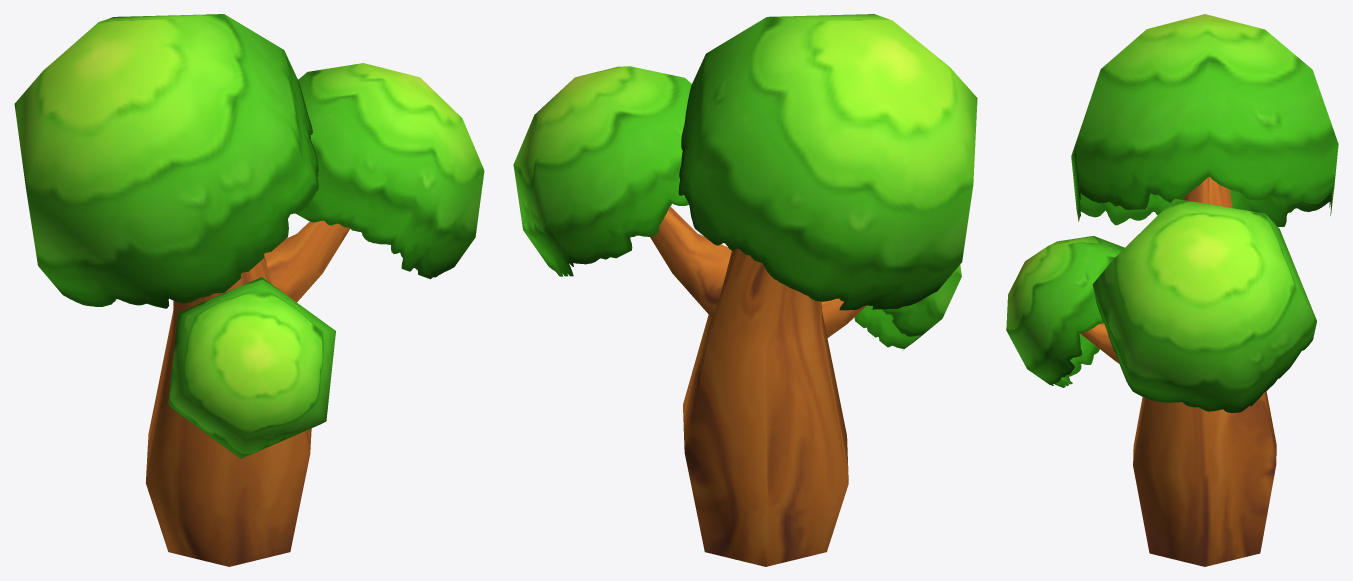
Rendered from Tree_02.FBX.
3 views of the same model, side by side, from view 1: azimuth 30°, elevation 25°; view 2: azimuth 150°, elevation 25°; view 3: azimuth 270°, elevation 25° (orthographic). The views are drawn at different scales.
Visible parts, largest first — view 1: Tree_02; view 2: Tree_02; view 3: Tree_02.
Part boxes in pixels (x1=…): Tree_02: x1=14, y1=14, x2=484, y2=566; Tree_02: x1=513, y1=14, x2=977, y2=566; Tree_02: x1=1006, y1=14, x2=1338, y2=566.
Size of the model in its own units: 100 by 115 by 71.88.
